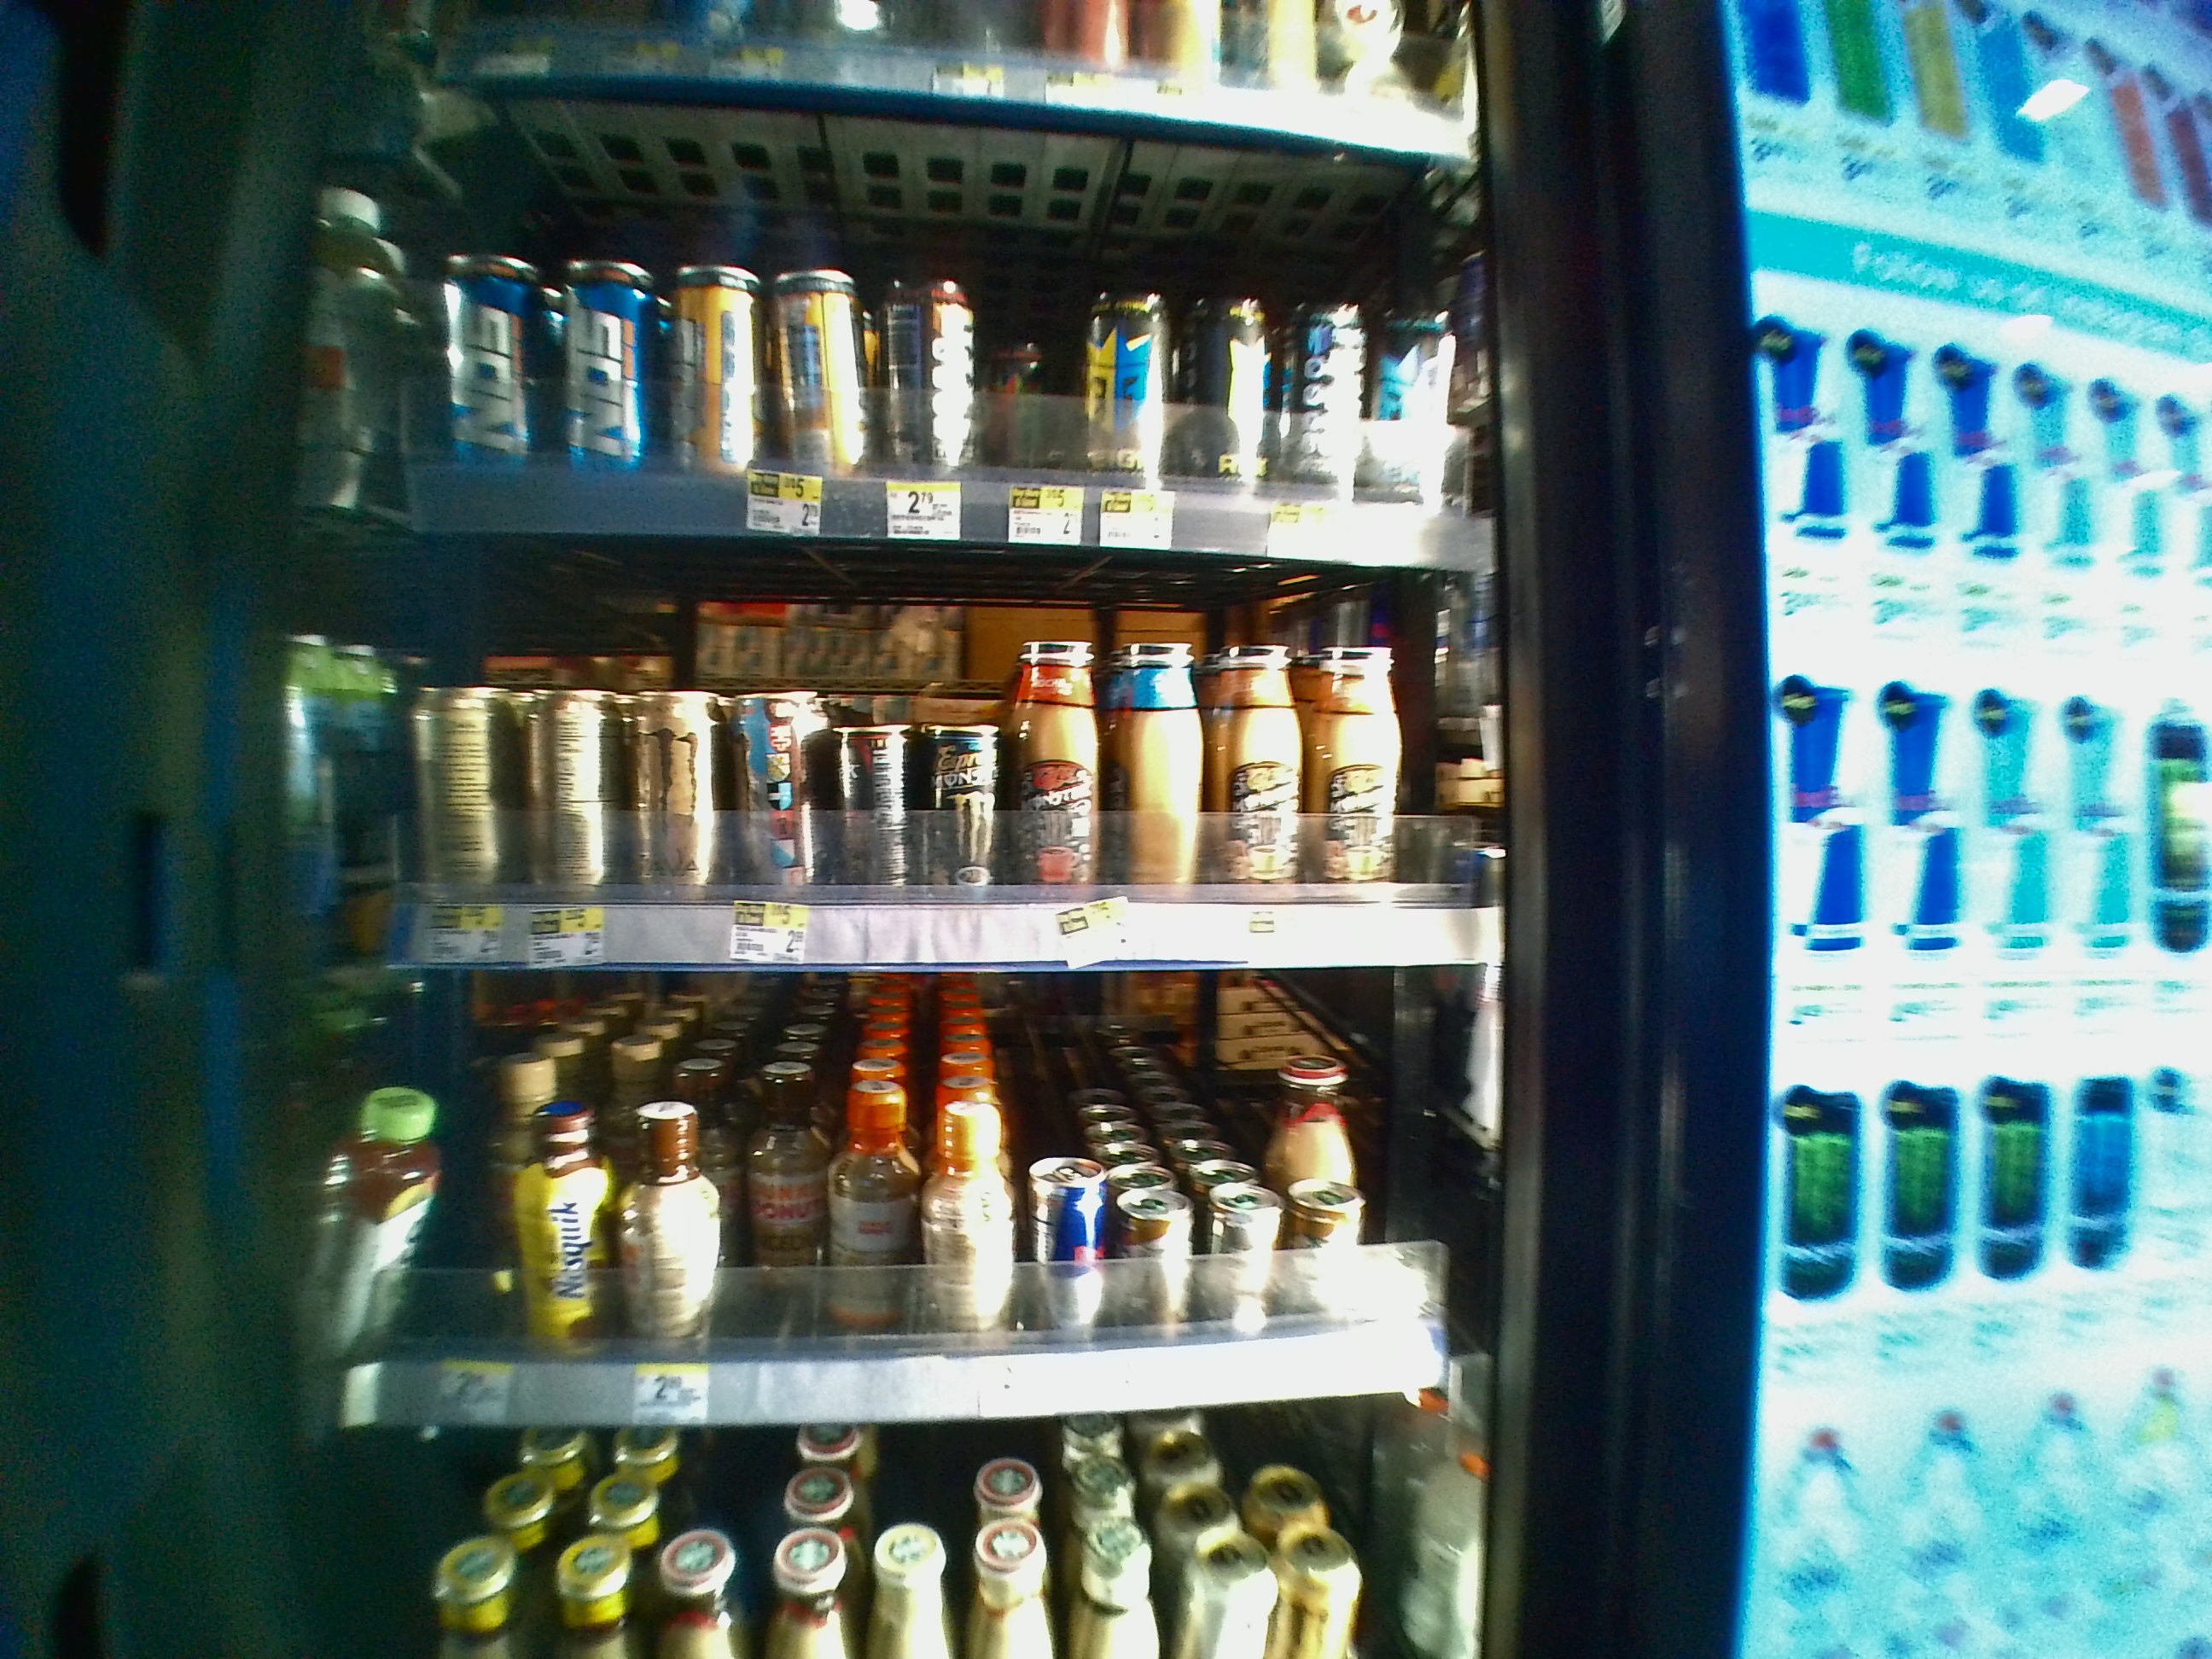shelf: (261, 547, 1534, 974), (251, 979, 1531, 1401)
